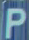Parking: (3, 5, 25, 39)
